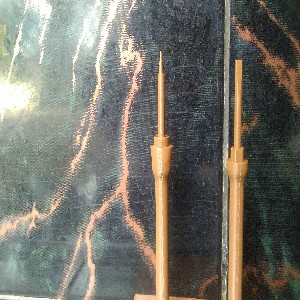obeng: (225, 58, 250, 300)
solder: (149, 49, 174, 300)
